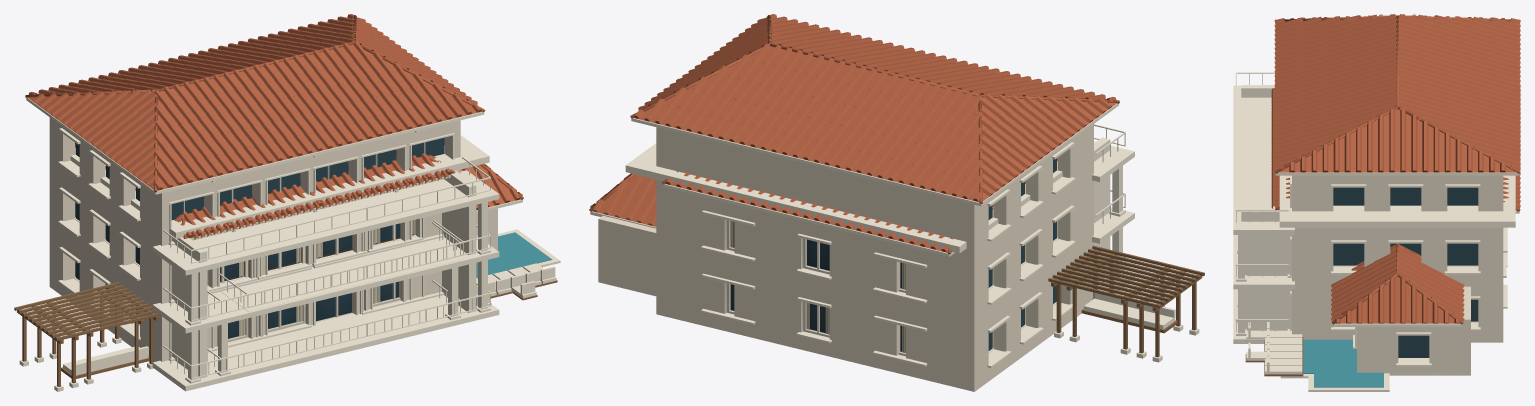
The model's file is villas-v1.glb.
3 views of the same model, side by side, from view 1: azimuth 30°, elevation 25°; view 2: azimuth 150°, elevation 25°; view 3: azimuth 270°, elevation 25° (orthographic). The views are drawn at different scales.
Parts seen in each view (by area): view 1: WaterfrontVilla2_terracotta, WaterfrontVilla2_trim, WaterfrontVilla2_stucco, WaterfrontVilla1_trim, WaterfrontVilla0_trim, WaterfrontVilla3_trim, WaterfrontVilla0_terracotta, WaterfrontVilla0_teak, WaterfrontVilla2_teak, WaterfrontVilla1_teak, WaterfrontVilla2_glass, WaterfrontVilla0_glass (+7 smaller); view 2: WaterfrontVilla2_terracotta, WaterfrontVilla2_stucco, WaterfrontVilla0_stucco, WaterfrontVilla1_stucco, WaterfrontVilla2_trim, WaterfrontVilla1_trim, WaterfrontVilla0_trim, WaterfrontVilla3_stucco, WaterfrontVilla2_teak, WaterfrontVilla1_teak, WaterfrontVilla3_terracotta, WaterfrontVilla0_terracotta (+5 smaller); view 3: WaterfrontVilla2_terracotta, WaterfrontVilla2_stucco, WaterfrontVilla2_trim, WaterfrontVilla1_trim, WaterfrontVilla3_terracotta, WaterfrontVilla3_stucco, WaterfrontVilla2_glass, WaterfrontVilla3_trim, WaterfrontVilla0_pool, WaterfrontVilla2_pool, WaterfrontVilla0_terracotta, WaterfrontVilla0_trim (+2 smaller).
Boxes of the visible parts, box(x1,y1,x2,y2) form: WaterfrontVilla2_terracotta: box(25, 14, 485, 192); WaterfrontVilla2_trim: box(19, 98, 560, 391); WaterfrontVilla2_stucco: box(49, 117, 460, 361); WaterfrontVilla1_trim: box(34, 135, 545, 388); WaterfrontVilla0_trim: box(49, 174, 525, 384); WaterfrontVilla3_trim: box(50, 175, 536, 383); WaterfrontVilla0_terracotta: box(75, 142, 455, 239); WaterfrontVilla0_teak: box(45, 174, 513, 379); WaterfrontVilla2_teak: box(14, 280, 557, 386); WaterfrontVilla1_teak: box(30, 284, 542, 383); WaterfrontVilla2_glass: box(75, 137, 444, 324); WaterfrontVilla0_glass: box(220, 220, 413, 338); WaterfrontVilla2_terracotta: box(630, 14, 1119, 203); WaterfrontVilla2_stucco: box(656, 124, 1093, 391); WaterfrontVilla0_stucco: box(688, 194, 942, 383); WaterfrontVilla1_stucco: box(672, 190, 1057, 387); WaterfrontVilla2_trim: box(631, 103, 1199, 367); WaterfrontVilla1_trim: box(625, 137, 1183, 364); WaterfrontVilla0_trim: box(663, 184, 1139, 361); WaterfrontVilla3_stucco: box(598, 215, 725, 296); WaterfrontVilla2_teak: box(1066, 249, 1204, 357); WaterfrontVilla1_teak: box(1048, 249, 1187, 353); WaterfrontVilla3_terracotta: box(589, 173, 946, 251); WaterfrontVilla0_terracotta: box(662, 158, 1057, 254); WaterfrontVilla2_terracotta: box(1274, 14, 1520, 173); WaterfrontVilla2_stucco: box(1292, 175, 1503, 342); WaterfrontVilla2_trim: box(1233, 72, 1519, 391); WaterfrontVilla1_trim: box(1235, 85, 1515, 381); WaterfrontVilla3_terracotta: box(1274, 86, 1464, 324); WaterfrontVilla3_stucco: box(1357, 286, 1470, 375); WaterfrontVilla2_glass: box(1333, 187, 1478, 321); WaterfrontVilla3_trim: box(1233, 211, 1519, 378); WaterfrontVilla0_pool: box(1314, 339, 1383, 373); WaterfrontVilla2_pool: box(1314, 371, 1383, 387); WaterfrontVilla0_terracotta: box(1271, 86, 1520, 211); WaterfrontVilla0_trim: box(1233, 210, 1519, 376).
Size of the model in its own units: 34.25 by 14.5 by 17.66.
